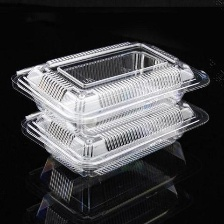plastic_box: (5, 33, 217, 183)
